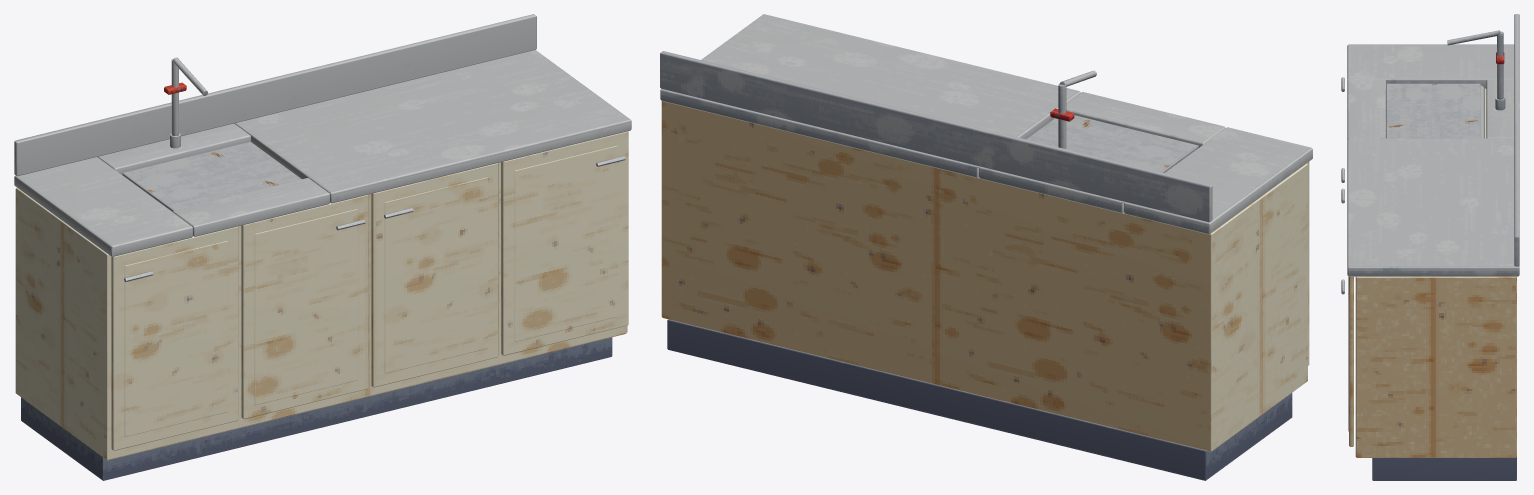
The model's file is kitchen_unit.glb.
The picture shows the model from 3 angles, left to right: view 1: azimuth 30°, elevation 25°; view 2: azimuth 150°, elevation 25°; view 3: azimuth 270°, elevation 25°; orthographic projection. The views are drawn at different scales.
Visible parts, largest first — view 1: mesh; view 2: mesh; view 3: mesh.
Part boxes in pixels (x1,y1,x2,y2): mesh: [14, 14, 631, 480]; mesh: [660, 14, 1312, 480]; mesh: [1341, 14, 1519, 480].
Bounding box in the file's own units: 1.9 × 1.17 × 0.6422.
1 material, 1 textured.
